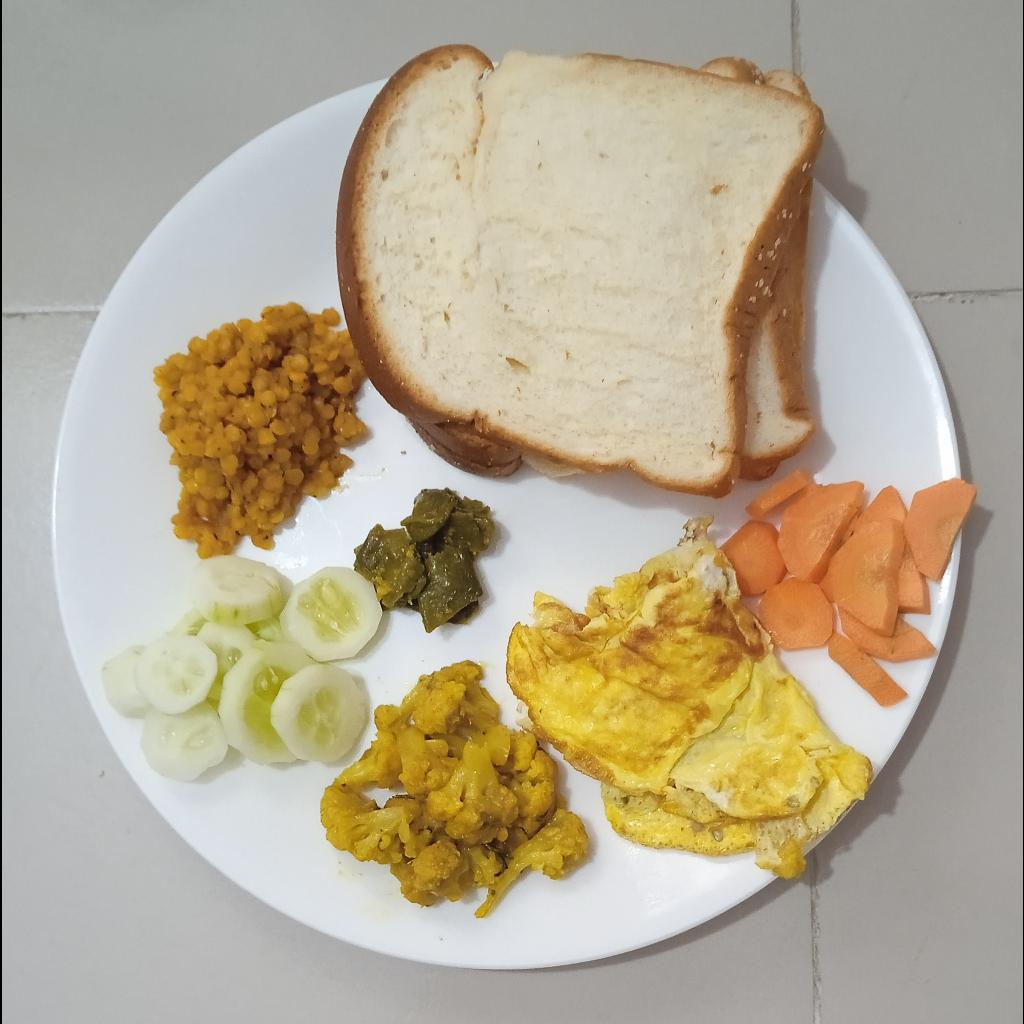bread: (334, 42, 828, 498)
carrot: (723, 465, 980, 710)
cauliflower: (320, 660, 586, 918)
cucumber: (102, 554, 382, 782)
daal: (151, 305, 365, 555)
egg-poached: (505, 518, 876, 880)
shim: (351, 487, 496, 635)
